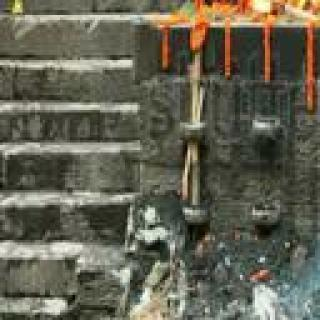fire: (239, 0, 320, 16)
